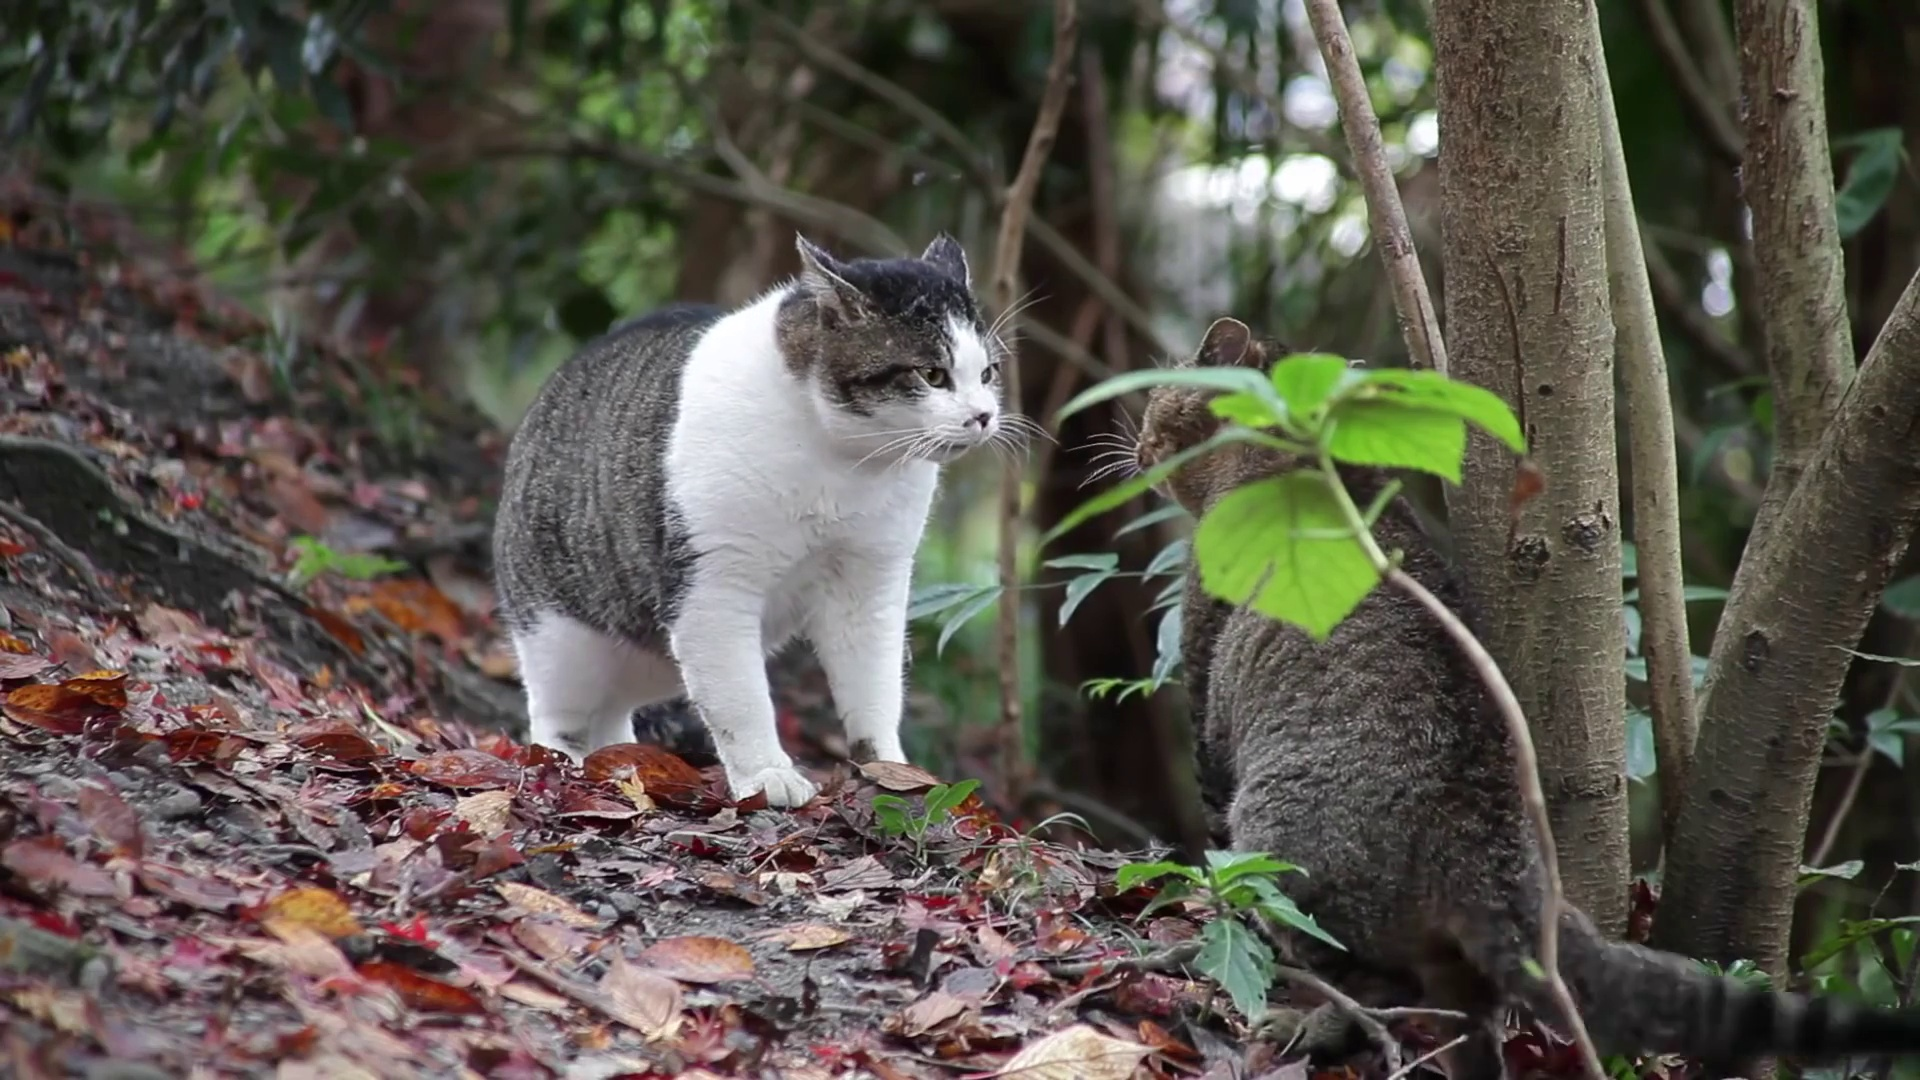black-white: (491, 229, 1004, 804)
pure black: (1133, 316, 1563, 1015)
